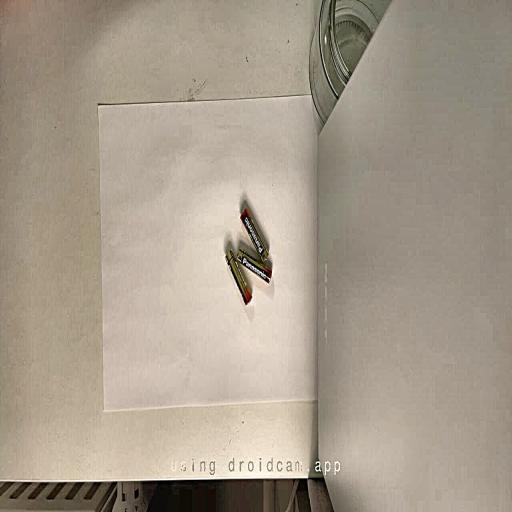PanasonicAAA: (226, 247, 252, 305), (240, 208, 268, 261), (237, 248, 272, 283)
